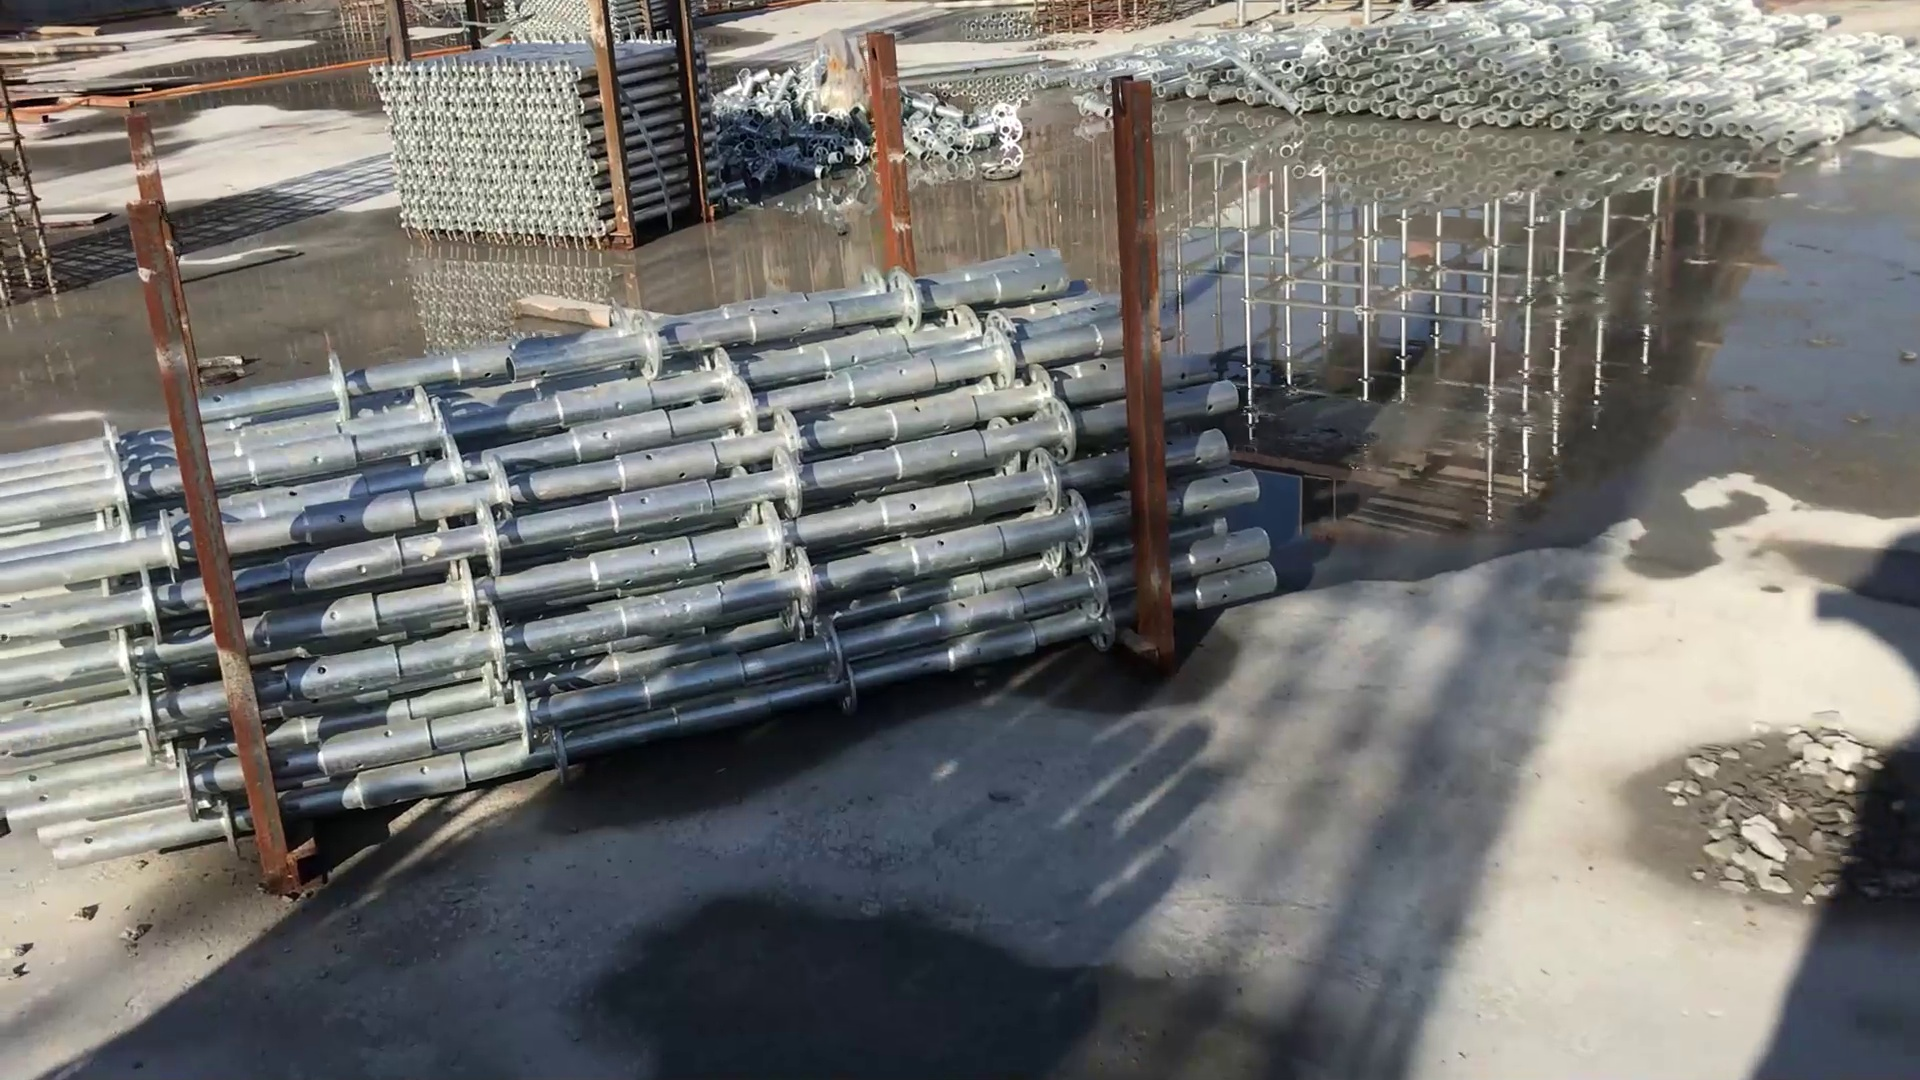scaffold: (1, 261, 1279, 872), (1059, 1, 1920, 161), (373, 45, 746, 241), (505, 1, 669, 36)
